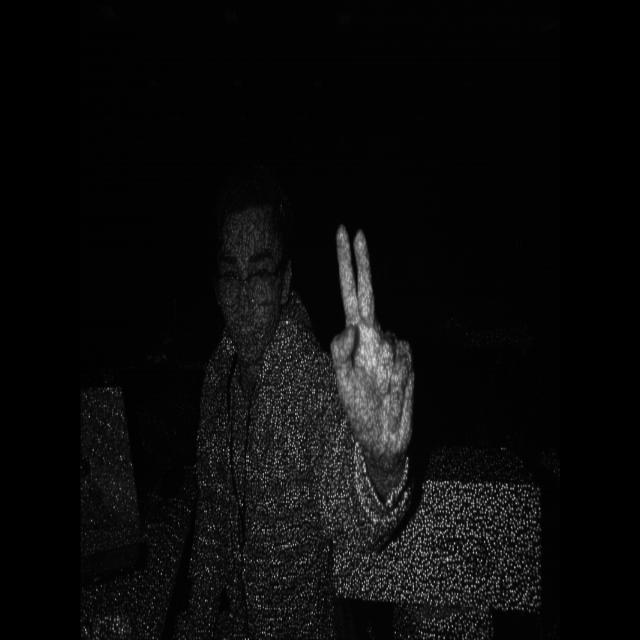U: (323, 210, 437, 508)
